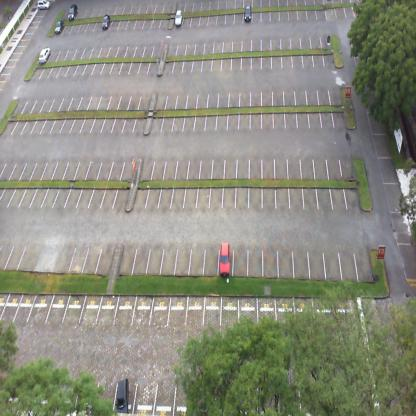car: (116, 375, 129, 415), (219, 241, 231, 278), (38, 45, 52, 64), (67, 2, 78, 20), (53, 18, 64, 34), (243, 4, 252, 23), (101, 12, 110, 30), (173, 9, 182, 26), (37, 0, 50, 9)
